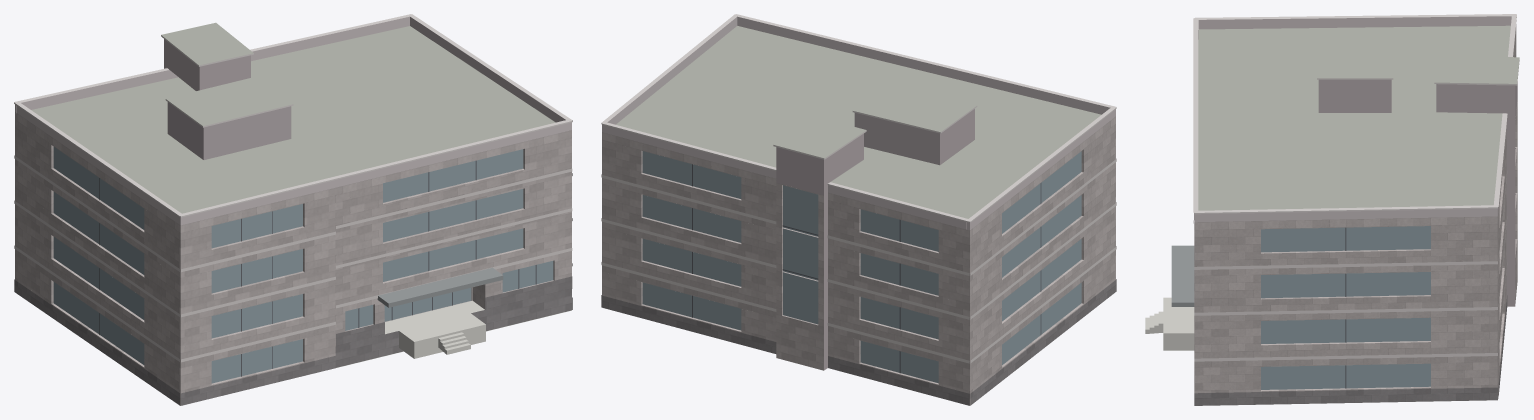
3 renders of one model, left to right at view 1: azimuth 30°, elevation 25°; view 2: azimuth 150°, elevation 25°; view 3: azimuth 270°, elevation 25°, orthographic. The views are drawn at different scales.
Visible parts, largest first — view 1: b76__wall, b76__roof, b76__glass, b76__trim, b76__base, b76__parapet, b76__wall2, b76__entranceStair, b76__canopy, b76__frame; view 2: b76__wall, b76__roof, b76__glass, b76__trim, b76__parapet, b76__wall2, b76__base, b76__frame; view 3: b76__roof, b76__wall, b76__glass, b76__trim, b76__wall2, b76__parapet, b76__base, b76__entranceStair, b76__canopy.
Boxes of the visible parts, bbox=[...] form: b76__wall: bbox=[15, 112, 571, 405]; b76__roof: bbox=[31, 22, 571, 405]; b76__glass: bbox=[53, 147, 553, 383]; b76__trim: bbox=[14, 14, 572, 362]; b76__base: bbox=[14, 276, 572, 405]; b76__parapet: bbox=[15, 16, 571, 225]; b76__wall2: bbox=[164, 39, 291, 159]; b76__entranceStair: bbox=[385, 300, 485, 358]; b76__canopy: bbox=[377, 267, 503, 307]; b76__frame: bbox=[99, 160, 536, 376]; b76__wall: bbox=[602, 116, 1115, 405]; b76__roof: bbox=[616, 26, 1101, 218]; b76__glass: bbox=[642, 151, 1081, 383]; b76__trim: bbox=[601, 14, 1116, 363]; b76__parapet: bbox=[602, 16, 1115, 230]; b76__wall2: bbox=[776, 109, 974, 370]; b76__base: bbox=[601, 279, 1116, 405]; b76__frame: bbox=[692, 164, 1041, 373]; b76__roof: bbox=[1198, 25, 1519, 405]; b76__wall: bbox=[1194, 26, 1517, 395]; b76__glass: bbox=[1261, 226, 1430, 389]; b76__trim: bbox=[1193, 14, 1519, 361]; b76__wall2: bbox=[1318, 79, 1517, 306]; b76__parapet: bbox=[1194, 16, 1516, 222]; b76__base: bbox=[1194, 295, 1507, 405]; b76__entranceStair: bbox=[1145, 297, 1194, 350]; b76__canopy: bbox=[1171, 245, 1194, 306].
Bounding box in the file's own units: 33.49 × 17.57 × 26.63.
11 materials, 2 textured.
